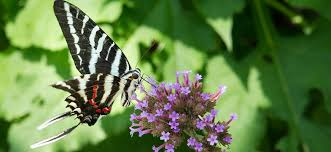Butterfly: (27, 1, 145, 148)
